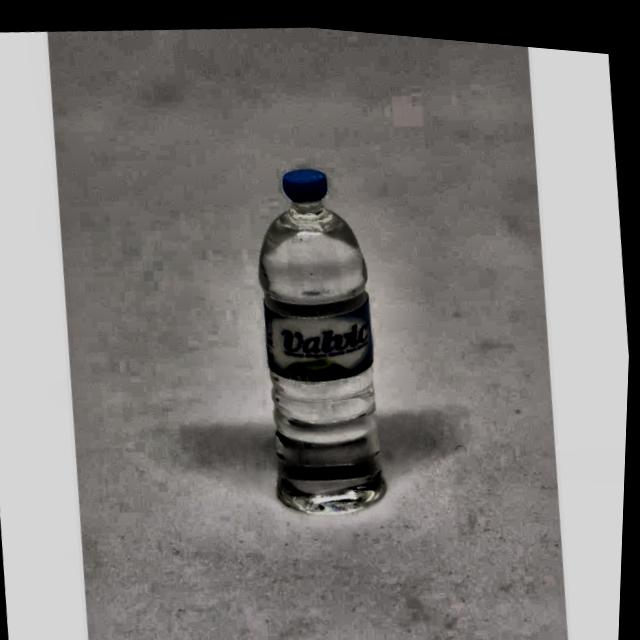Bottles: (232, 135, 419, 533)
